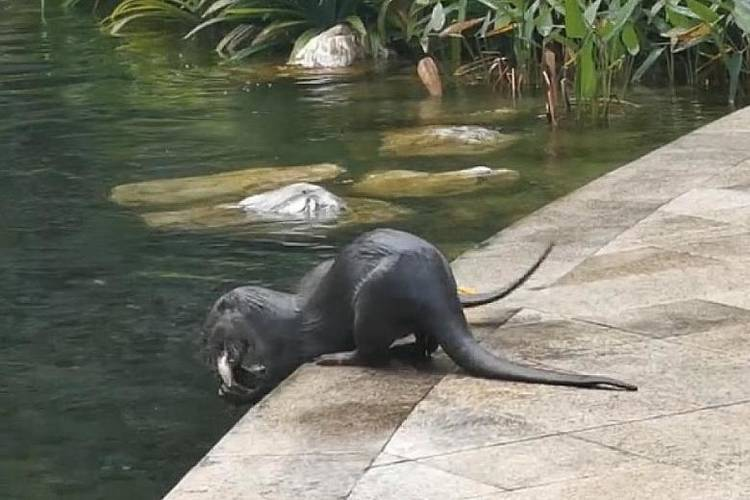otter: (190, 219, 645, 400)
